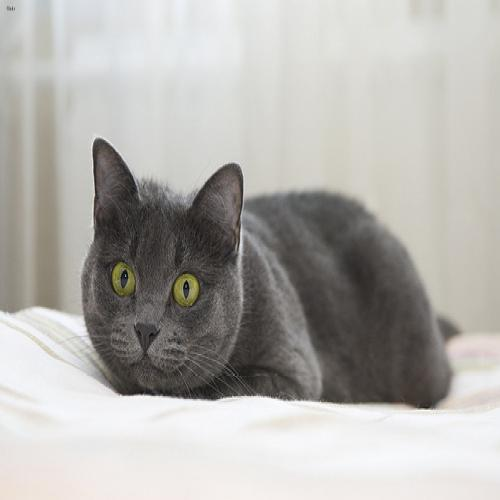rblue: (72, 120, 256, 417)
